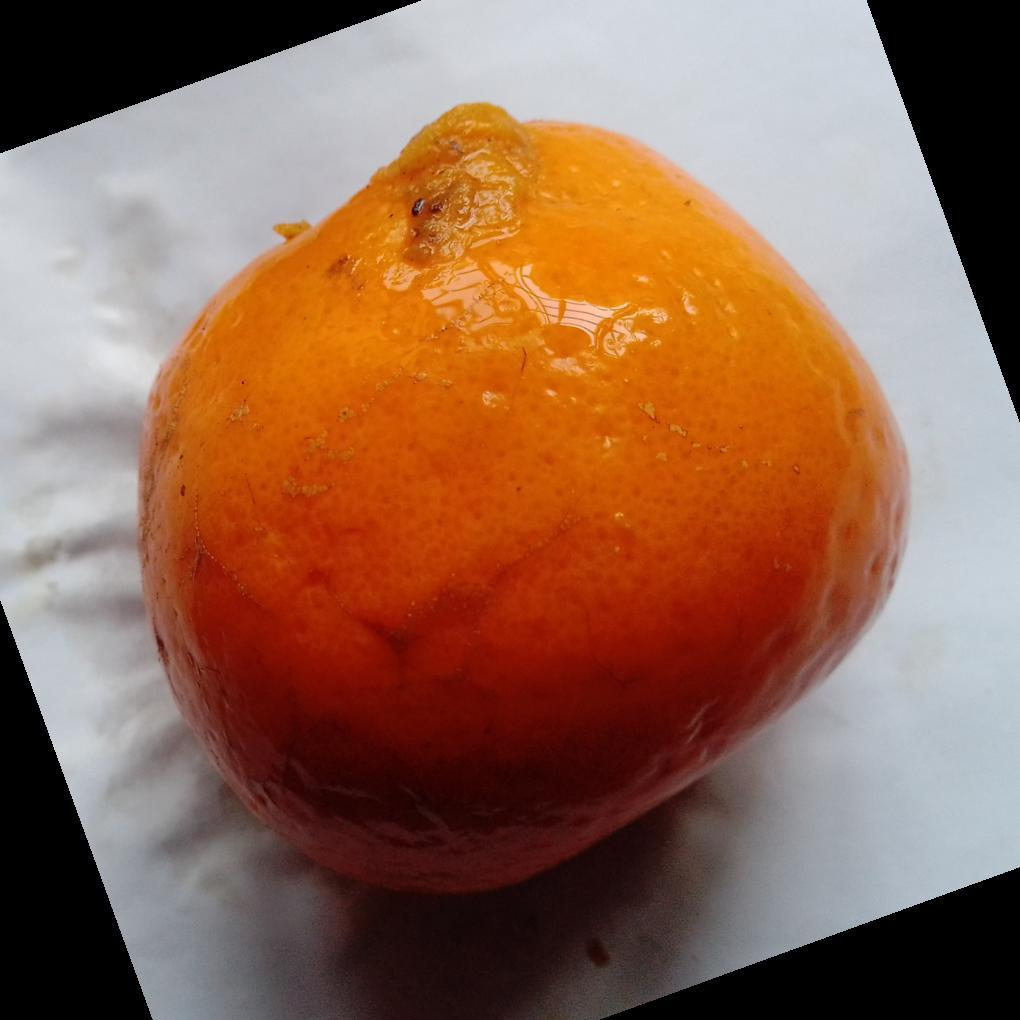FreshOrange: (136, 103, 912, 901)
